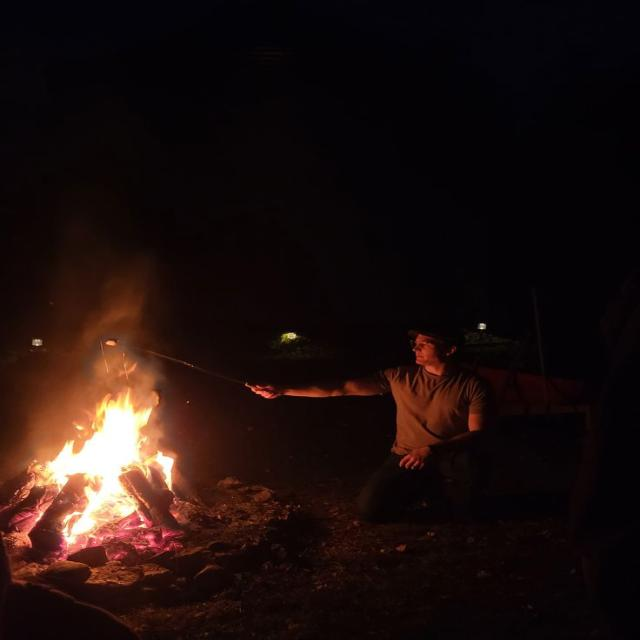fire: (15, 390, 176, 554)
